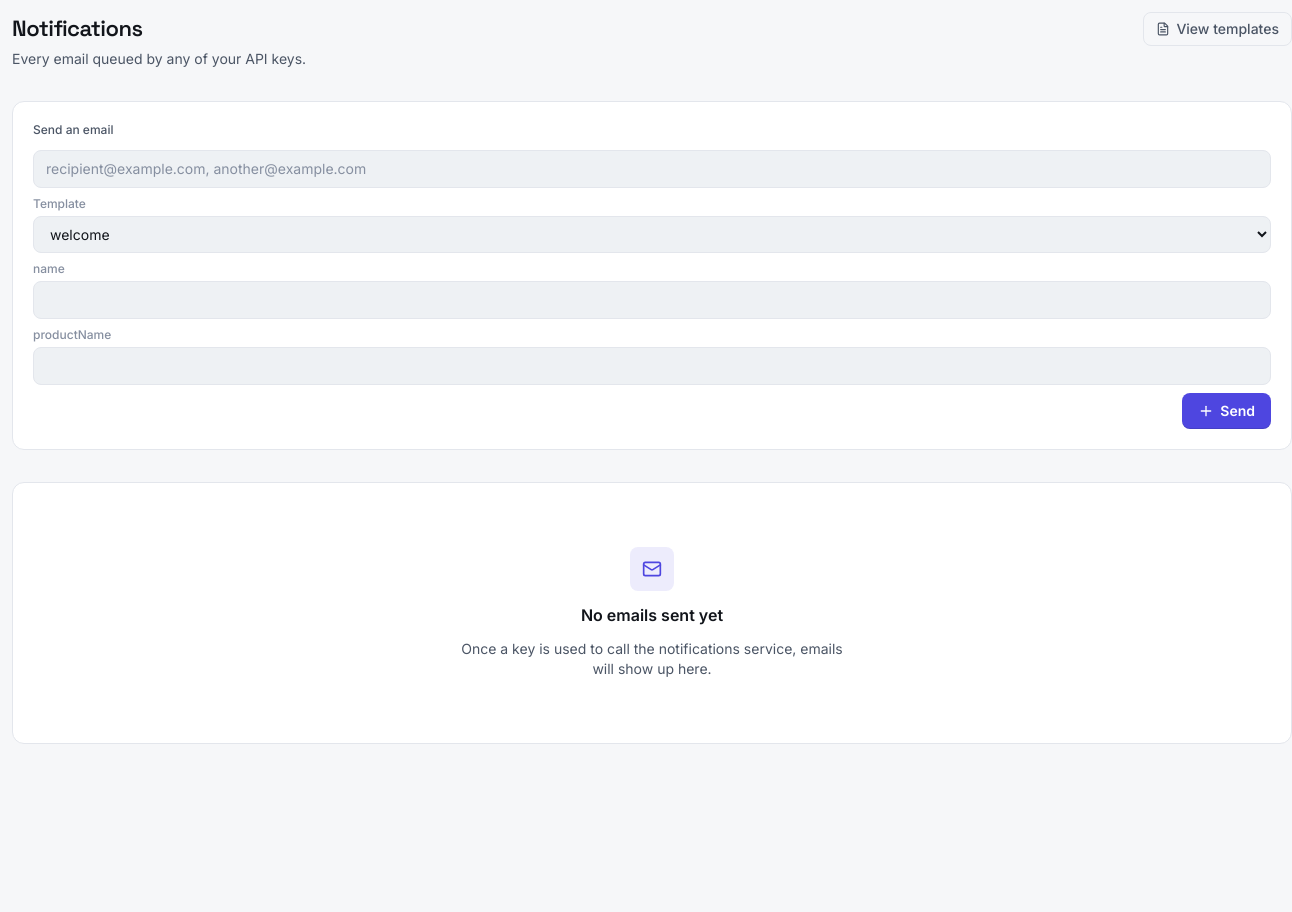
Test case: NotificationsPage › shows an error toast and keeps the form filled when sending fails
This screenshot has width=1292, height=912.
Select "Custom" in the dropdown labelled "Template". click: (652, 234)
box: [33,216,1271,253]
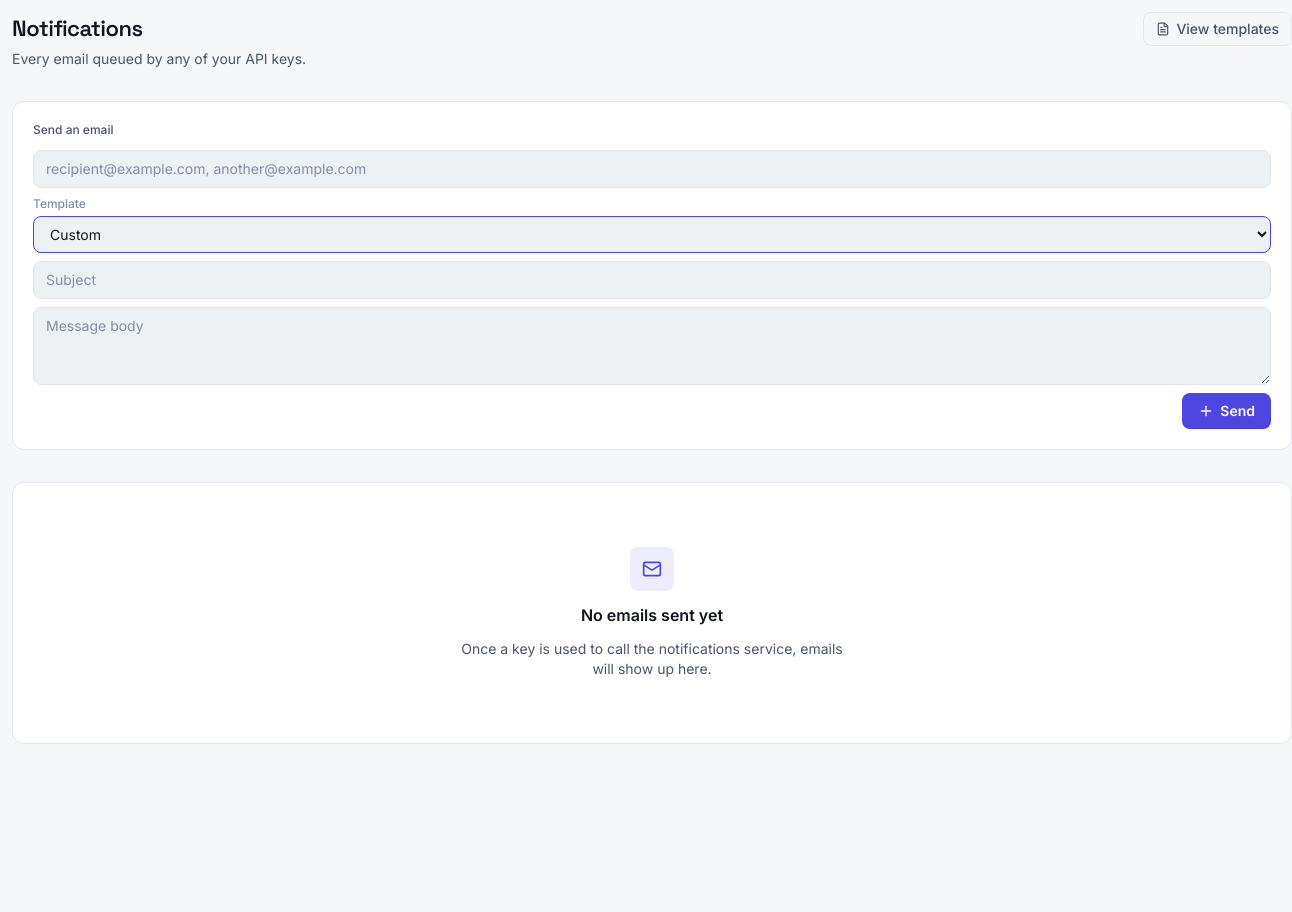
Type "not-an-email" into the field with placeholder "recipient@example.com, another@example.com". click: (652, 169)
box: [33,150,1271,188]
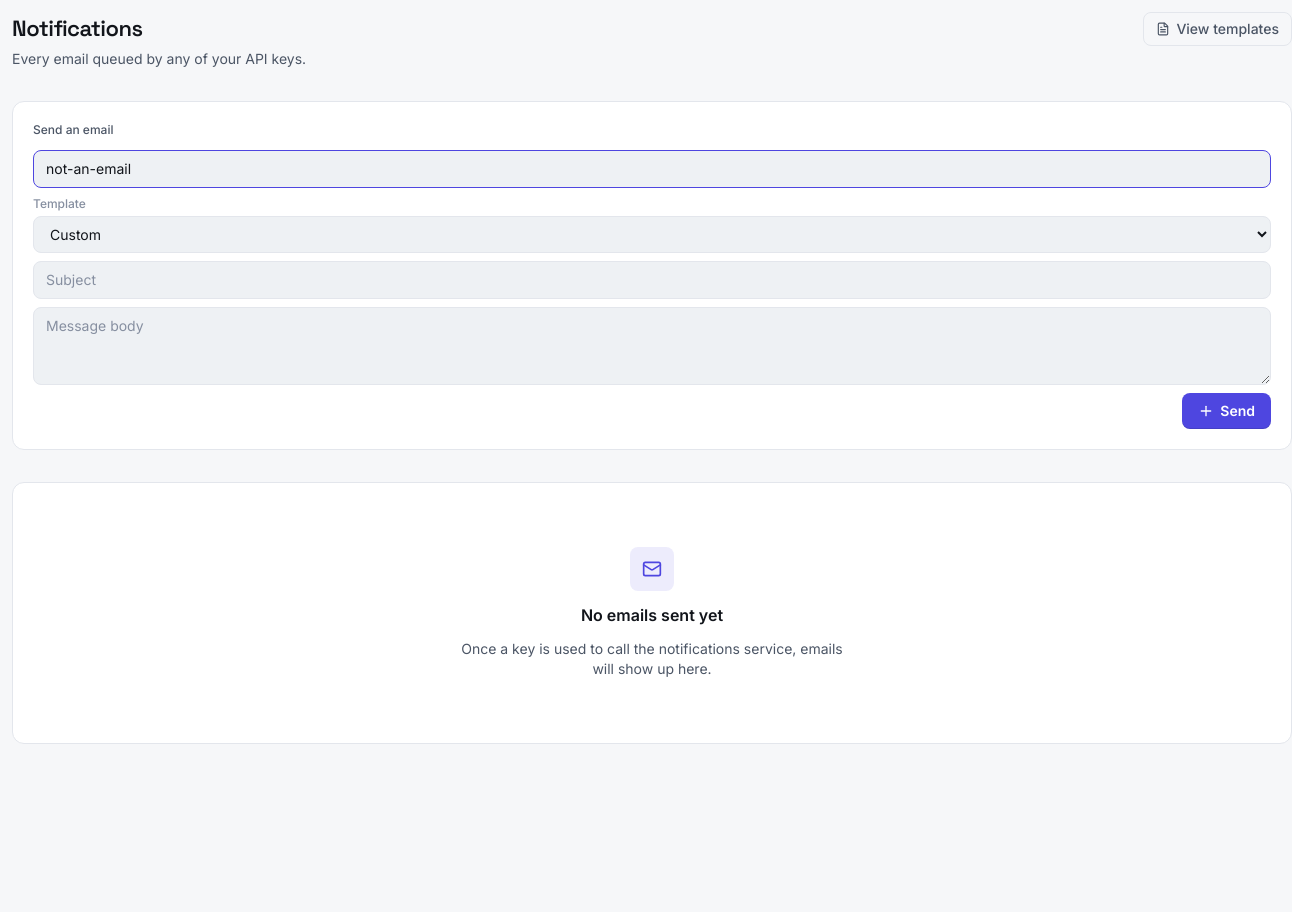
Click the button "Send". click: (1227, 411)
box: [1182,393,1271,429]
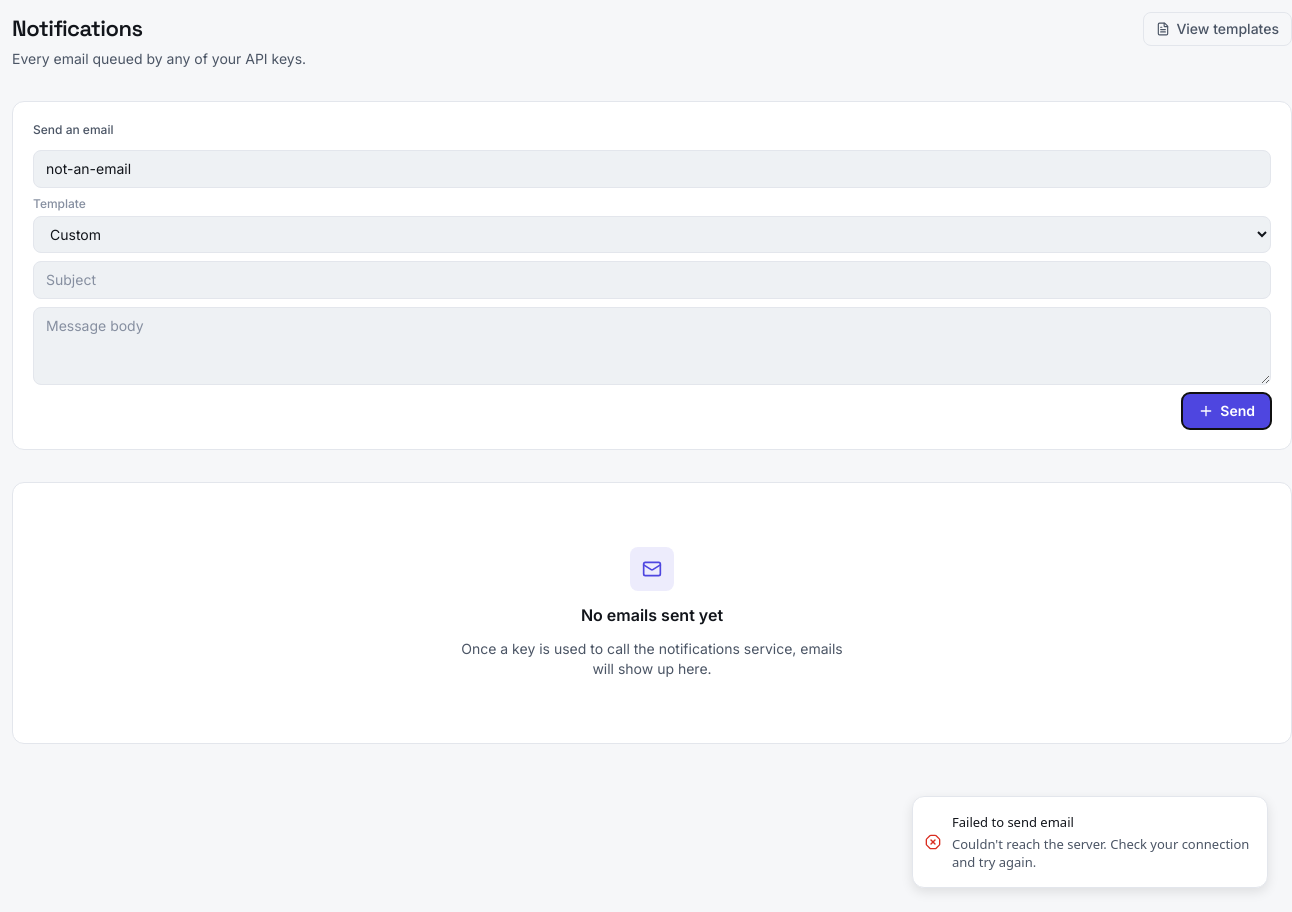
expect the text "Failed to send email" is shown: met, box [952,813,1074,831]
